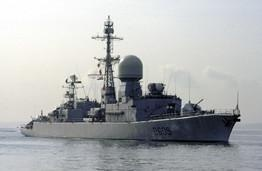warship: (22, 13, 243, 141)
